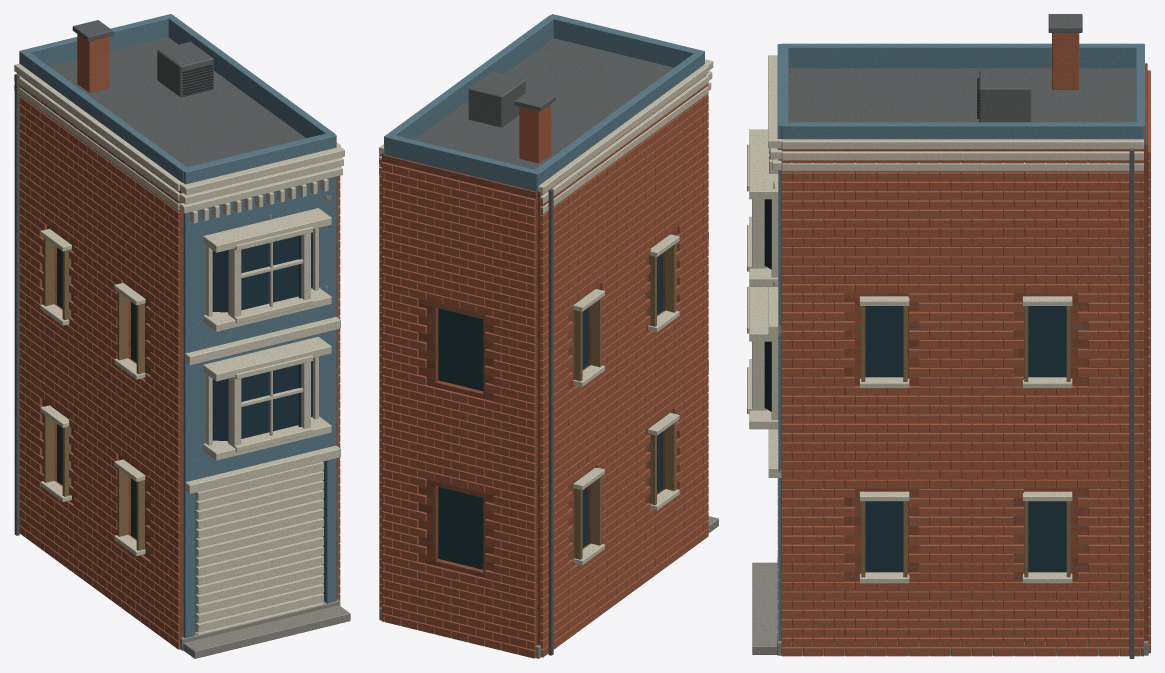
Rendered from VICT28_lod0.glb.
The picture shows the model from 3 angles, left to right: view 1: azimuth 30°, elevation 25°; view 2: azimuth 150°, elevation 25°; view 3: azimuth 270°, elevation 25°; orthographic projection. The views are drawn at different scales.
Parts seen in each view (by area): view 1: VICT28_LOD0; view 2: VICT28_LOD0; view 3: VICT28_LOD0.
Part boxes in pixels (x1,y1,x2,y2): VICT28_LOD0: (14, 14, 350, 658); VICT28_LOD0: (379, 14, 718, 658); VICT28_LOD0: (747, 14, 1150, 658).
Bounding box in the file's own units: 3.71 × 10.45 × 6.69.
Materials: 12 (10 with a texture image).
